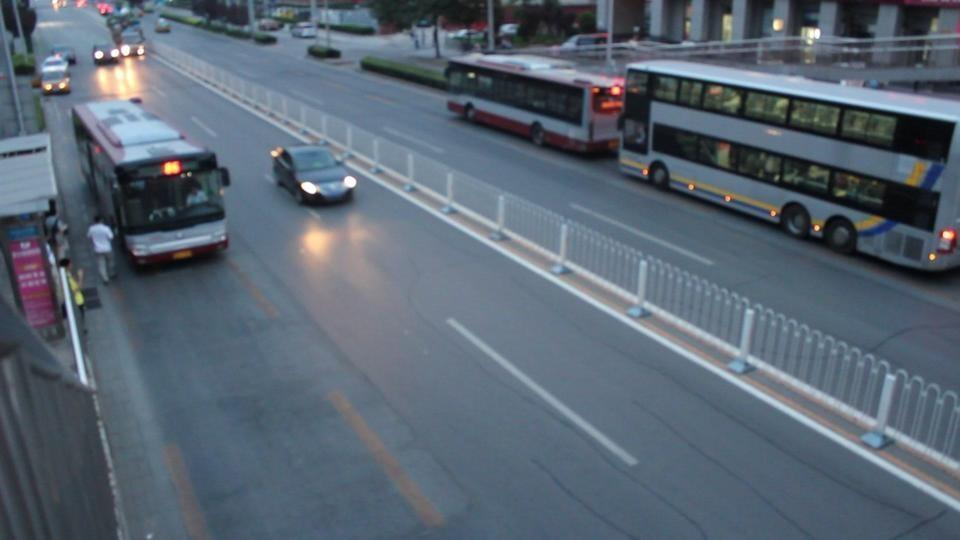car: (268, 144, 357, 206), (551, 33, 634, 57), (91, 31, 146, 67), (37, 63, 73, 95), (90, 44, 130, 66), (289, 22, 318, 39)
